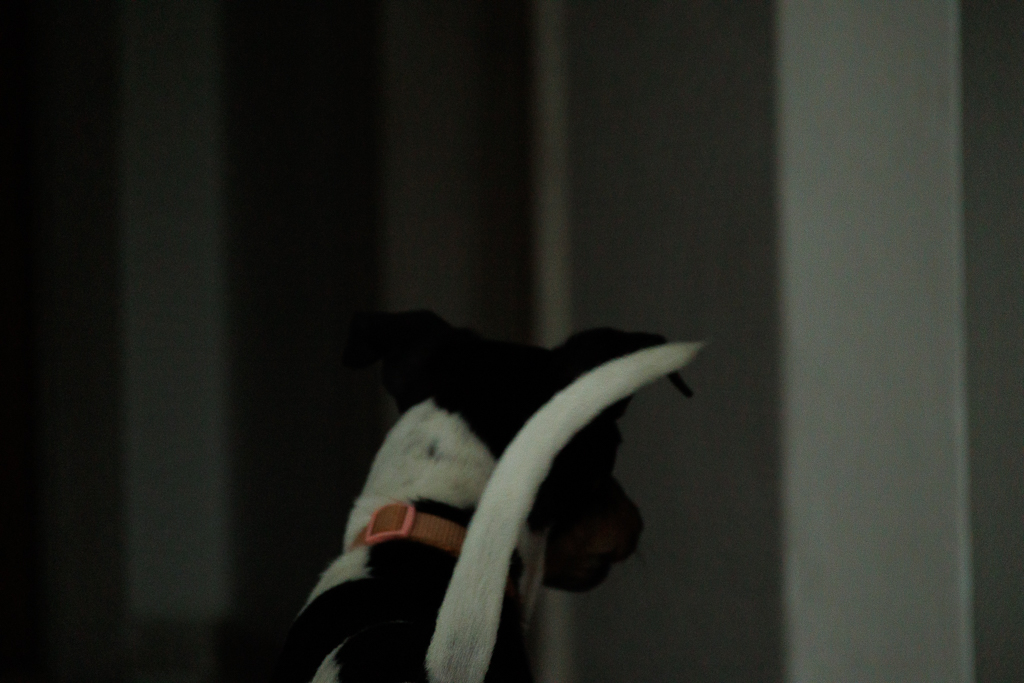Dog: (247, 290, 723, 683)
